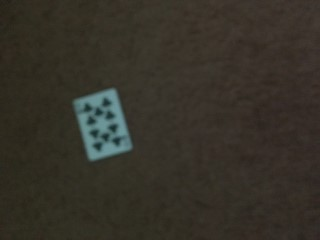TenOfClubs: (72, 88, 132, 162)
